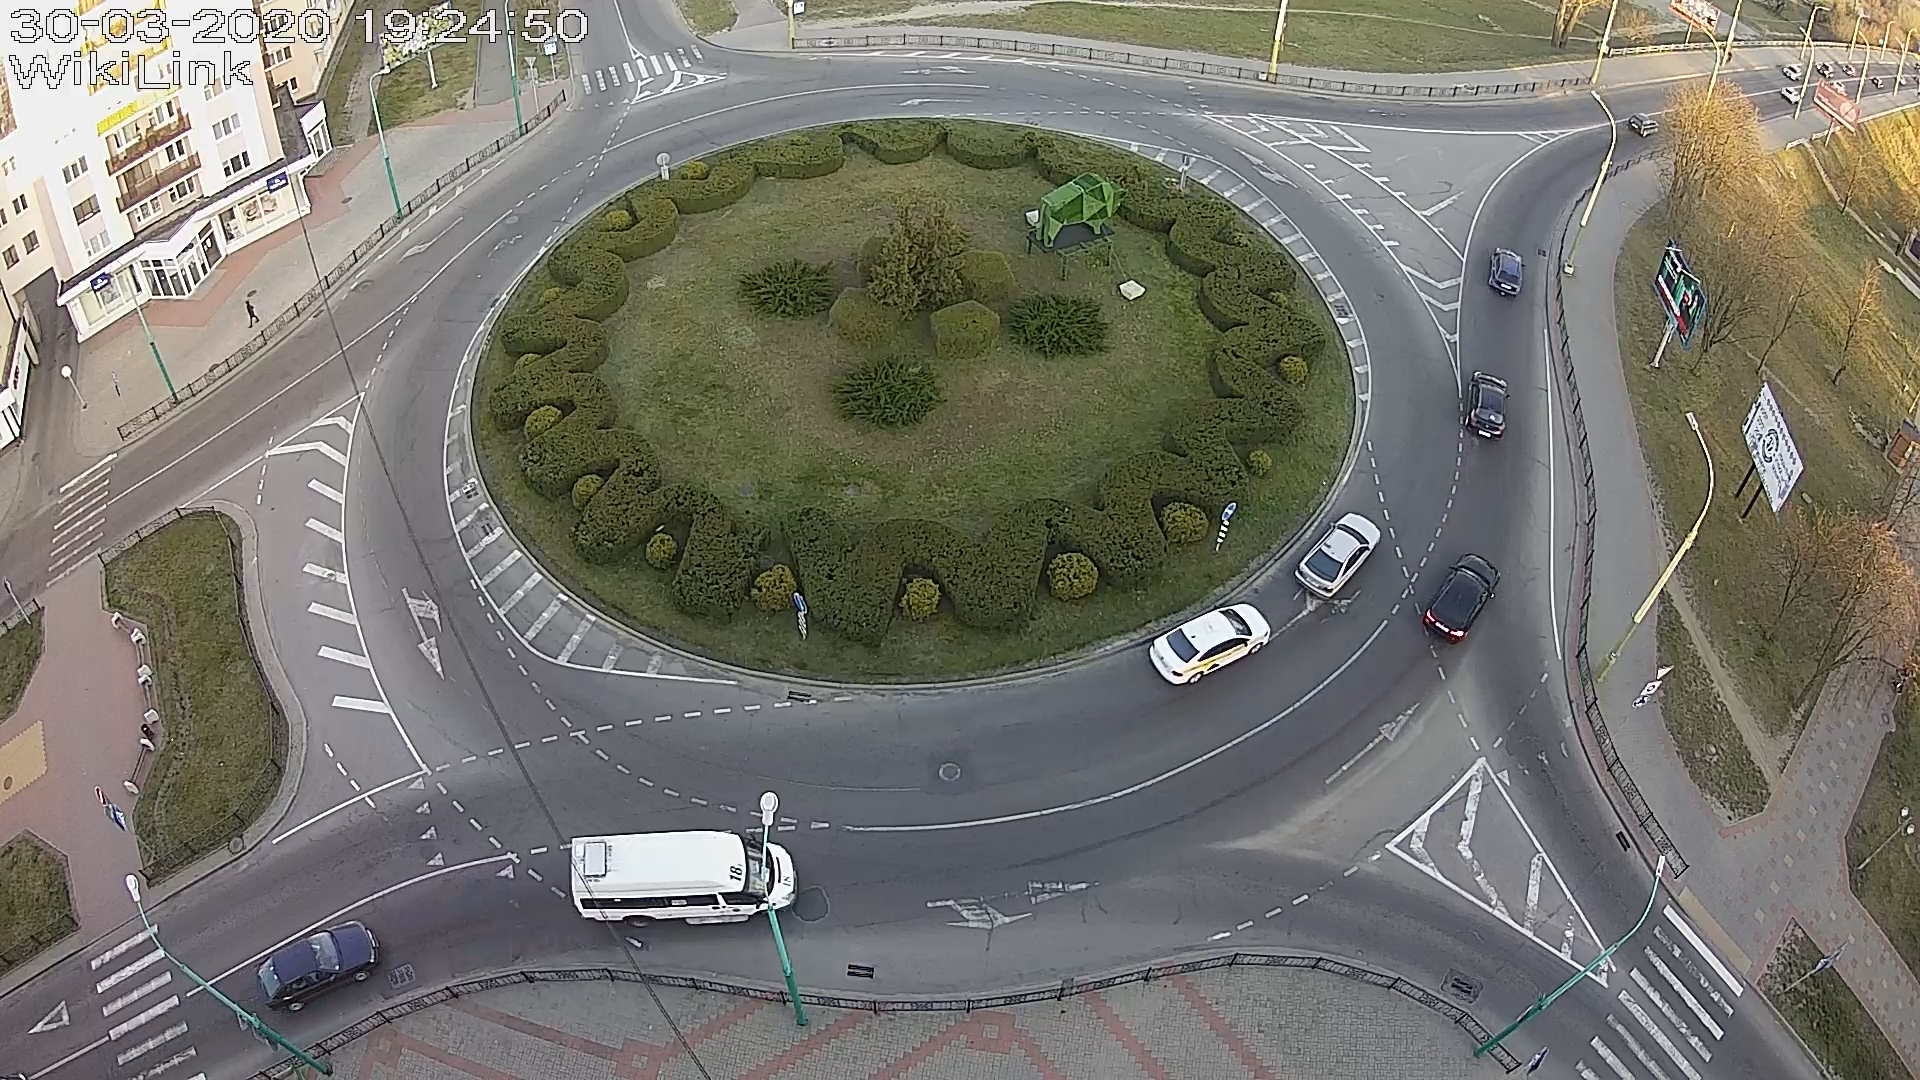car: (570, 829, 798, 928), (255, 920, 380, 1013), (1149, 603, 1271, 684), (1294, 512, 1382, 600), (1422, 553, 1501, 644), (1464, 371, 1513, 440), (1487, 247, 1526, 297), (1627, 112, 1660, 137)
